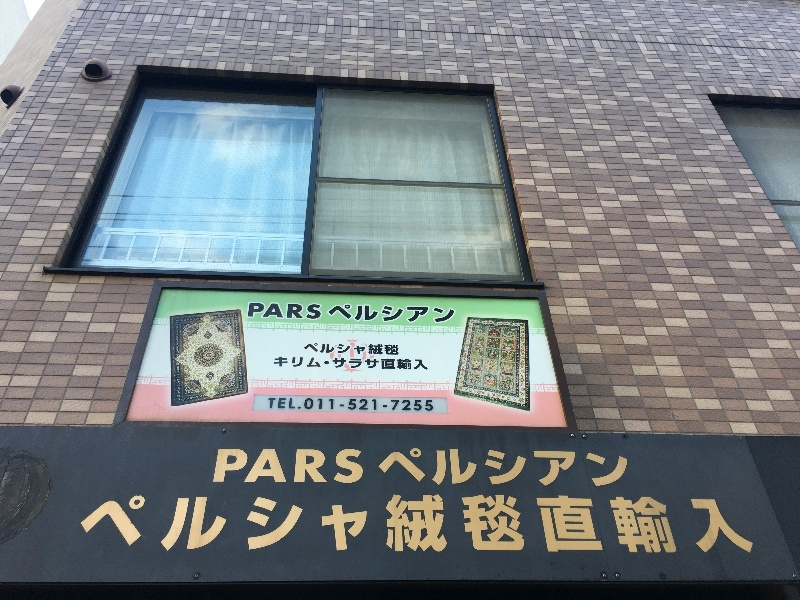text: (97, 488, 112, 553), (113, 488, 128, 553), (129, 488, 144, 553), (145, 488, 160, 553), (161, 488, 176, 553), (177, 488, 192, 553), (193, 488, 208, 553), (209, 488, 224, 553), (225, 488, 240, 553), (241, 488, 256, 553), (257, 488, 272, 553), (273, 488, 288, 553), (289, 488, 304, 553), (305, 488, 320, 553), (321, 488, 336, 553), (337, 488, 352, 553), (353, 488, 368, 553), (369, 488, 384, 553), (385, 488, 400, 553), (401, 488, 416, 553), (417, 488, 432, 553), (433, 488, 448, 553), (449, 488, 464, 553), (465, 488, 480, 553), (481, 488, 496, 553), (497, 488, 512, 553), (513, 488, 528, 553), (529, 488, 544, 553), (545, 488, 560, 553), (561, 488, 576, 553), (577, 488, 592, 553), (593, 488, 608, 553), (609, 488, 624, 553), (625, 488, 640, 553), (641, 488, 656, 553), (657, 488, 672, 553), (673, 488, 688, 553), (689, 488, 704, 553), (705, 488, 720, 553), (721, 488, 736, 553), (737, 488, 752, 553), (83, 488, 96, 553), (225, 450, 240, 489), (241, 450, 256, 489), (257, 450, 272, 489), (273, 450, 288, 489), (289, 450, 304, 489), (305, 450, 320, 489), (321, 450, 336, 489), (337, 450, 352, 489), (353, 450, 368, 489), (369, 450, 384, 489), (385, 450, 400, 489), (401, 450, 416, 489), (417, 450, 432, 489), (433, 450, 448, 489), (449, 450, 464, 489), (465, 450, 480, 489), (481, 450, 496, 489), (497, 450, 512, 489), (513, 450, 528, 489), (529, 450, 544, 489), (545, 450, 560, 489), (561, 450, 576, 489), (577, 450, 592, 489), (593, 450, 608, 489), (609, 450, 624, 489), (257, 303, 272, 324), (273, 303, 288, 324), (289, 303, 304, 324), (305, 303, 320, 324), (321, 303, 336, 324), (337, 303, 352, 324), (353, 303, 368, 324), (369, 303, 384, 324), (385, 303, 400, 324), (401, 303, 416, 324), (417, 303, 432, 324), (433, 303, 448, 324), (625, 450, 633, 489), (218, 450, 224, 489), (417, 398, 433, 411), (753, 488, 756, 553), (305, 342, 320, 355), (321, 342, 336, 355), (337, 342, 352, 355), (353, 342, 368, 355), (369, 342, 384, 355), (289, 355, 304, 368), (305, 355, 320, 368), (273, 398, 288, 411), (289, 398, 304, 411), (305, 398, 320, 411), (321, 398, 336, 411), (337, 398, 352, 411), (353, 398, 368, 411), (369, 398, 384, 411), (385, 398, 400, 411), (401, 398, 416, 411), (385, 342, 399, 355), (337, 358, 352, 370), (353, 358, 368, 370), (369, 358, 384, 370), (385, 358, 400, 370), (401, 358, 416, 370), (275, 355, 288, 368), (417, 358, 428, 370), (250, 303, 256, 324), (449, 303, 455, 324), (321, 355, 329, 368), (269, 398, 272, 411), (333, 358, 336, 370)
